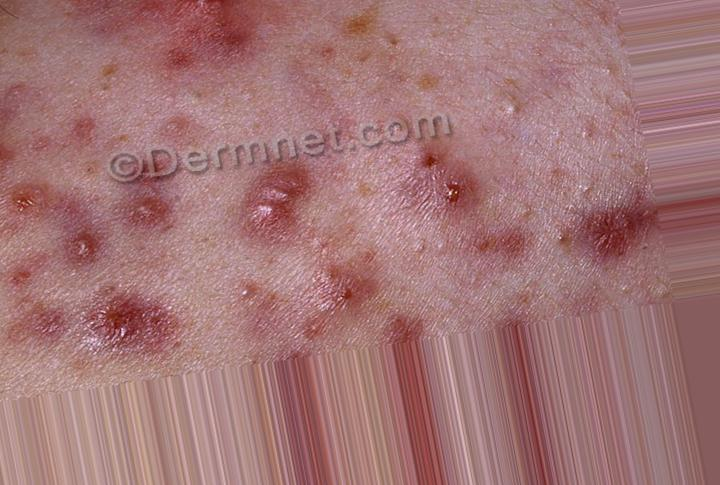Acne: (180, 0, 267, 42), (90, 290, 167, 336), (412, 156, 468, 205), (248, 182, 310, 226), (578, 208, 645, 248), (122, 188, 186, 228), (63, 225, 117, 271), (286, 310, 335, 354), (3, 183, 59, 219), (543, 163, 598, 199), (149, 78, 182, 137), (120, 0, 169, 30), (406, 236, 454, 260), (498, 89, 531, 123), (339, 162, 374, 194), (69, 123, 110, 150), (383, 26, 411, 65), (32, 315, 72, 340), (323, 283, 360, 309), (229, 275, 262, 299), (6, 258, 34, 284), (508, 203, 537, 226), (569, 128, 602, 146), (543, 228, 568, 248)
